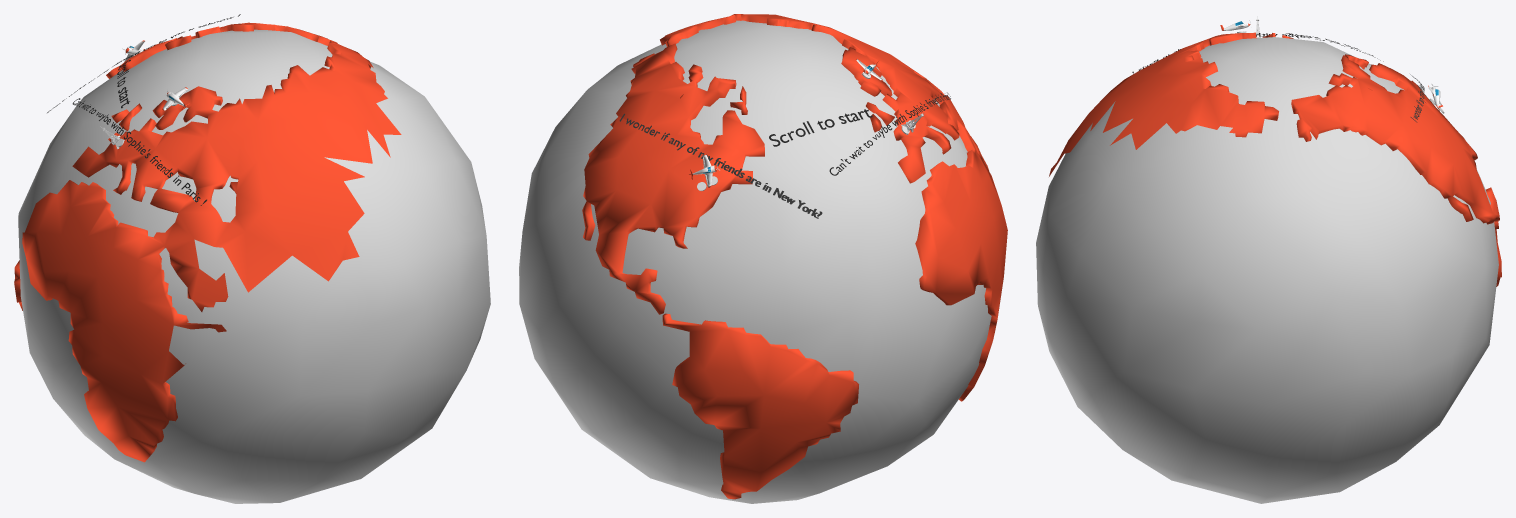
Rendered from planet.glb.
3 views of the same model, side by side, from view 1: azimuth 30°, elevation 25°; view 2: azimuth 150°, elevation 25°; view 3: azimuth 270°, elevation 25° (orthographic). The views are drawn at different scales.
Visible parts, largest first — view 1: Planet, Planet.001, Text3; view 2: Planet, Planet.001, Text, Text3; view 3: Planet, Planet.001.
Part boxes in pixels (box(x1,y1,x2,y2)): Planet: box(18, 29, 490, 503); Planet.001: box(14, 22, 401, 462); Text3: box(72, 98, 206, 205); Planet: box(519, 20, 991, 503); Planet.001: box(582, 14, 1007, 499); Text: box(619, 113, 822, 218); Text3: box(829, 92, 950, 175); Planet: box(1036, 37, 1498, 503); Planet.001: box(1049, 32, 1501, 286).
Bounding box in the file's own units: 74.21 × 73.75 × 73.59.
